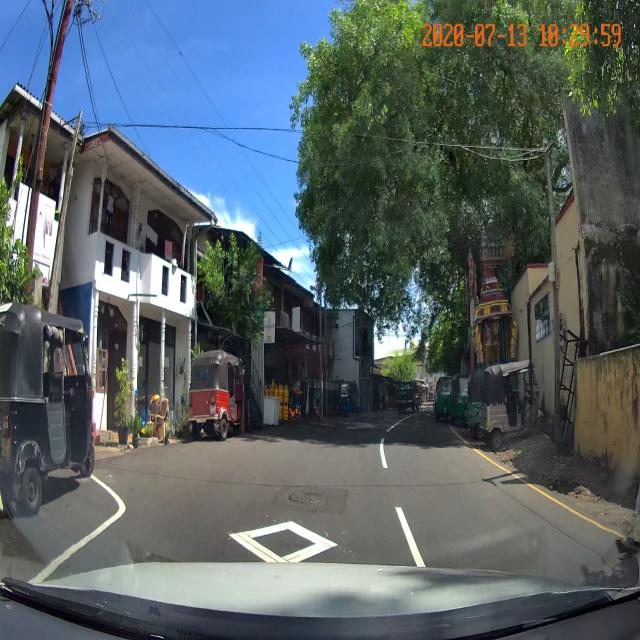Romb: (224, 518, 342, 572)
